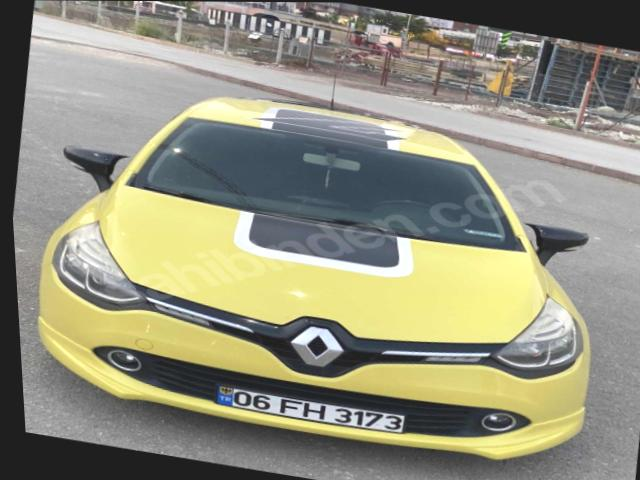plaka: (214, 386, 405, 433)
